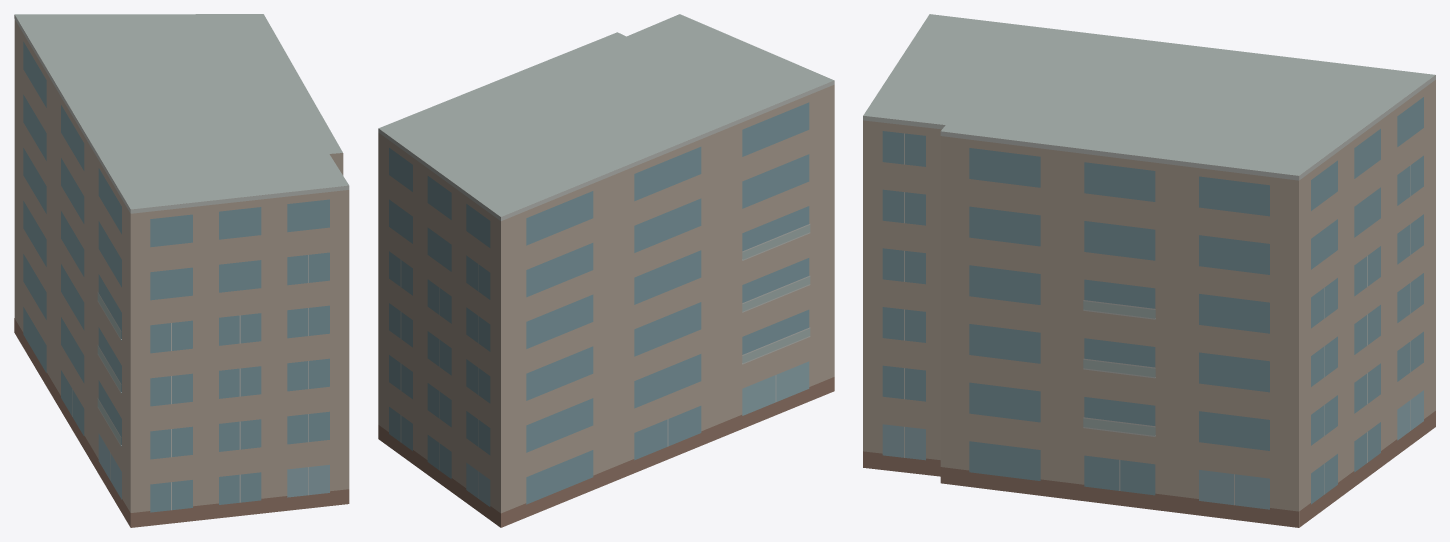
The model's file is survey-upis-32879641.glb.
3 renders of one model, left to right at view 1: azimuth 30°, elevation 25°; view 2: azimuth 150°, elevation 25°; view 3: azimuth 270°, elevation 25°, orthographic. The views are drawn at different scales.
Visible parts, largest first — view 1: survey-upis-32879641.tmp; view 2: survey-upis-32879641.tmp; view 3: survey-upis-32879641.tmp.
Boxes of the visible parts, bbox=[...] form: survey-upis-32879641.tmp: bbox=[14, 14, 349, 527]; survey-upis-32879641.tmp: bbox=[378, 14, 834, 527]; survey-upis-32879641.tmp: bbox=[863, 14, 1435, 527].
Size of the model in its own units: 18.06 by 18.3 by 27.
